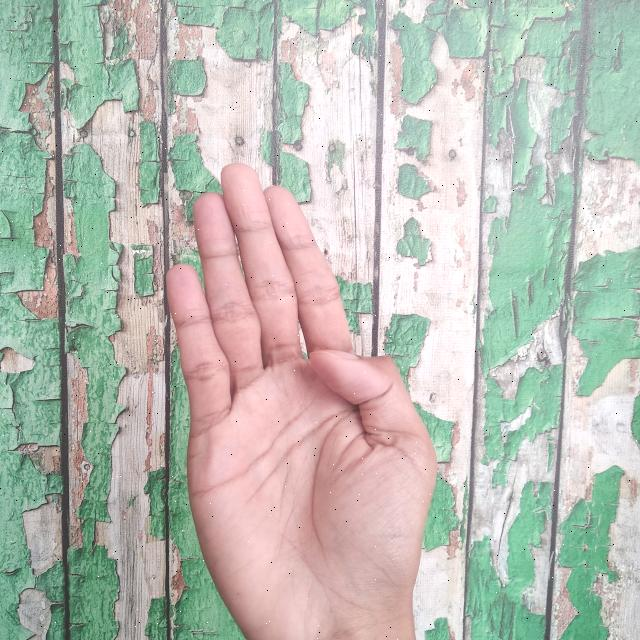B: (161, 154, 446, 640)
